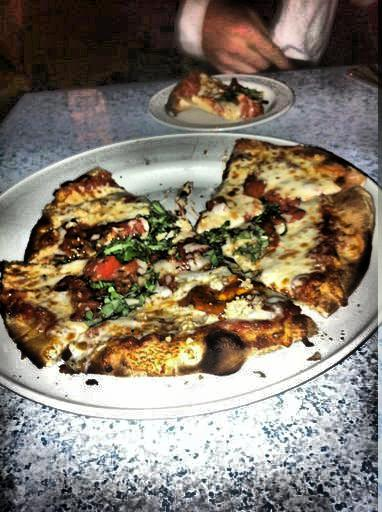pizza: (9, 140, 382, 397)
